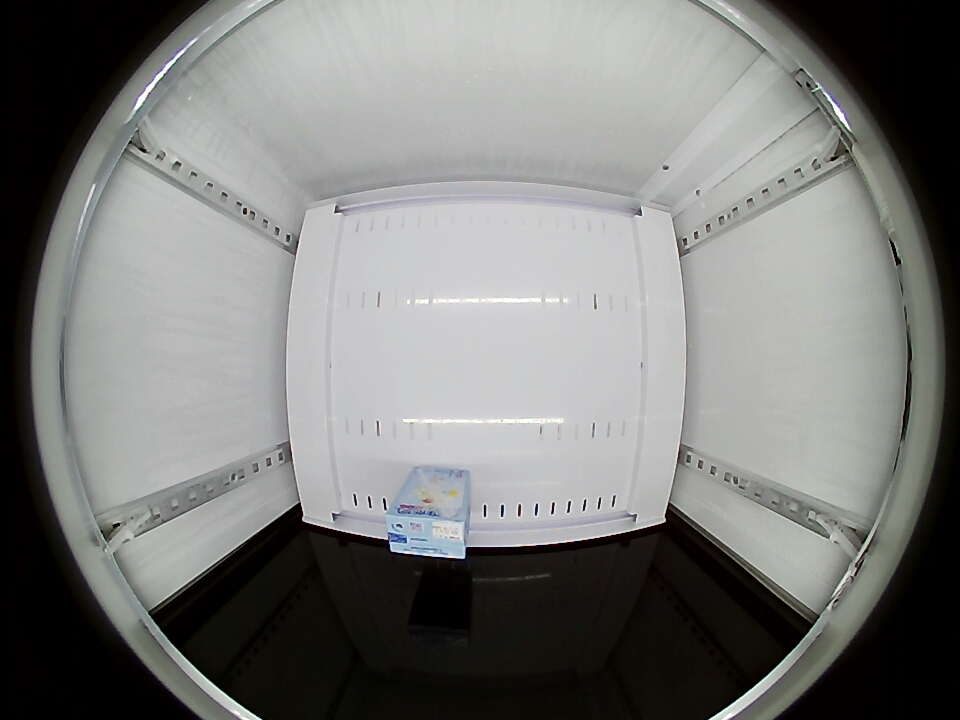weitanaiditang: (386, 498, 468, 559)
